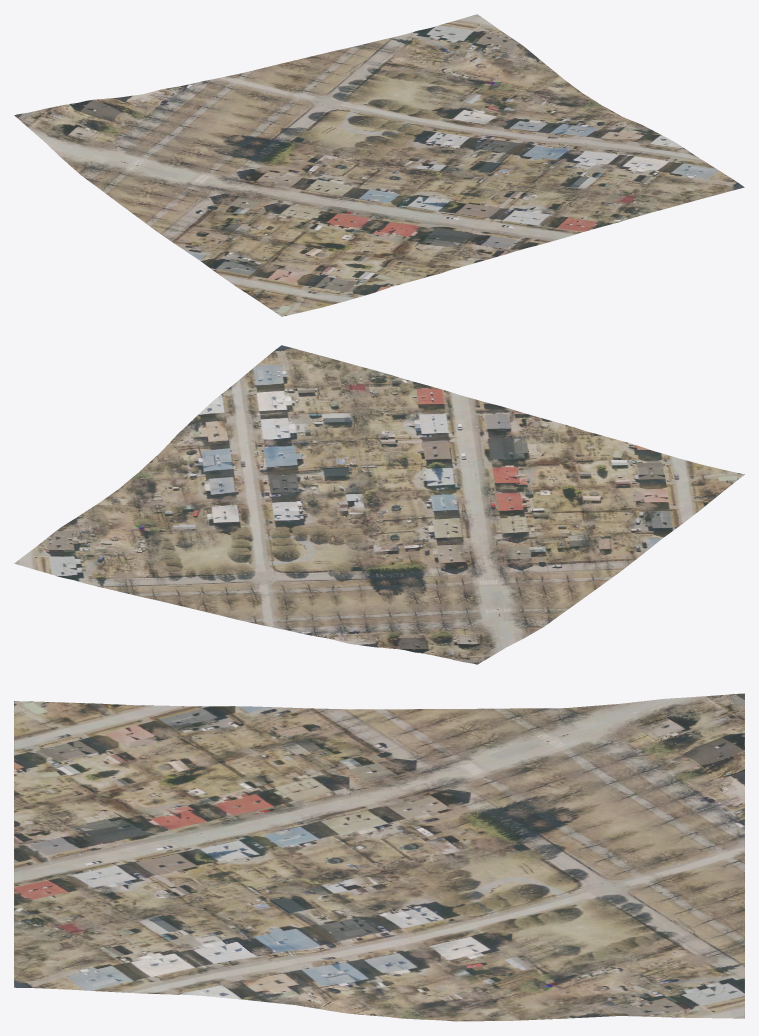
File: CM_Terrain_24488615_6819384.fbx
3 renders of one model, top to bottom at view 1: azimuth 30°, elevation 25°; view 2: azimuth 150°, elevation 25°; view 3: azimuth 270°, elevation 25°, orthographic. The views are drawn at different scales.
Parts seen in each view (by area): view 1: CM_Terrain_24488615_6819384_LOD0; view 2: CM_Terrain_24488615_6819384_LOD0; view 3: CM_Terrain_24488615_6819384_LOD0.
Part boxes in pixels (x1,y1,x2,y2): CM_Terrain_24488615_6819384_LOD0: (14, 14, 744, 316); CM_Terrain_24488615_6819384_LOD0: (14, 345, 744, 664); CM_Terrain_24488615_6819384_LOD0: (14, 693, 744, 1021).
Size of what is drawn, in the model's own units: 205 by 10.92 by 205.
